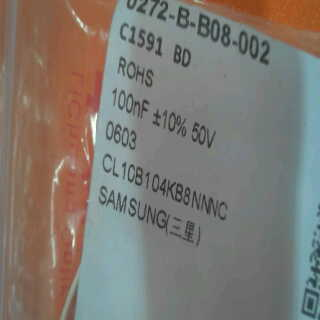100nF: (96, 85, 160, 129)
